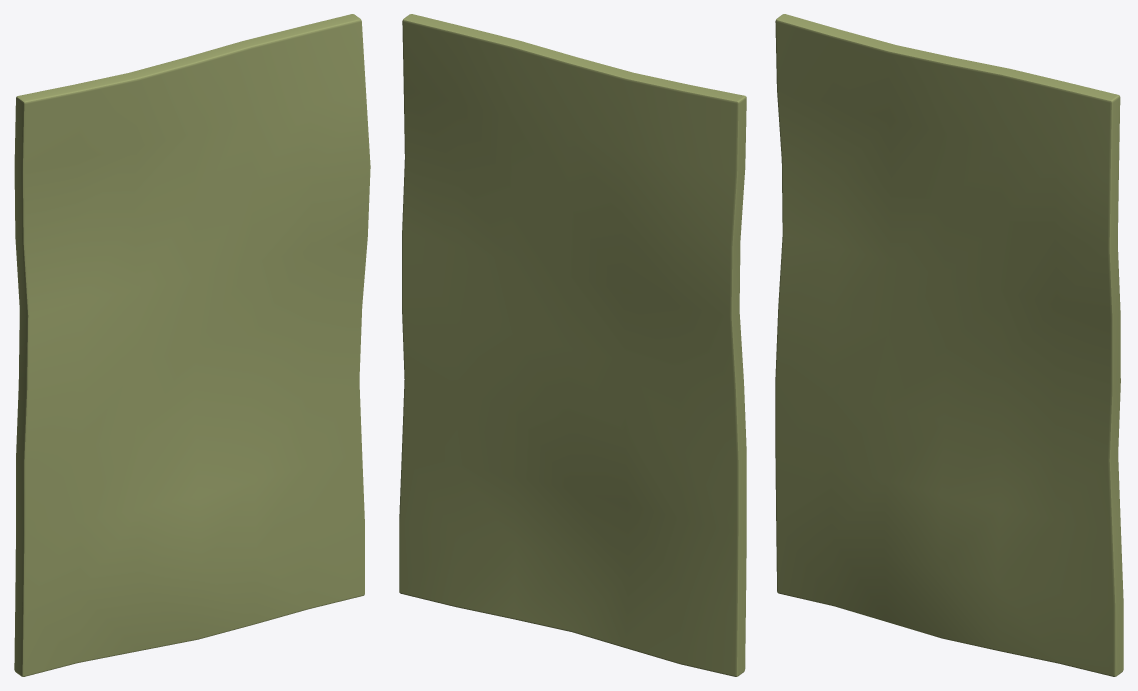
Rendered from Murs_Ruelle_2.fbx.
3 views of the same model, side by side, from view 1: azimuth 30°, elevation 25°; view 2: azimuth 150°, elevation 25°; view 3: azimuth 330°, elevation 25° (orthographic).
Parts seen in each view (by area): view 1: pPlane1; view 2: pPlane1; view 3: pPlane1.
Boxes of the visible parts, x1=… form: pPlane1: x1=14, y1=14, x2=370, y2=676; pPlane1: x1=399, y1=14, x2=746, y2=676; pPlane1: x1=775, y1=14, x2=1123, y2=676.
Size of the model in its own units: 244 by 393 by 26.4.
